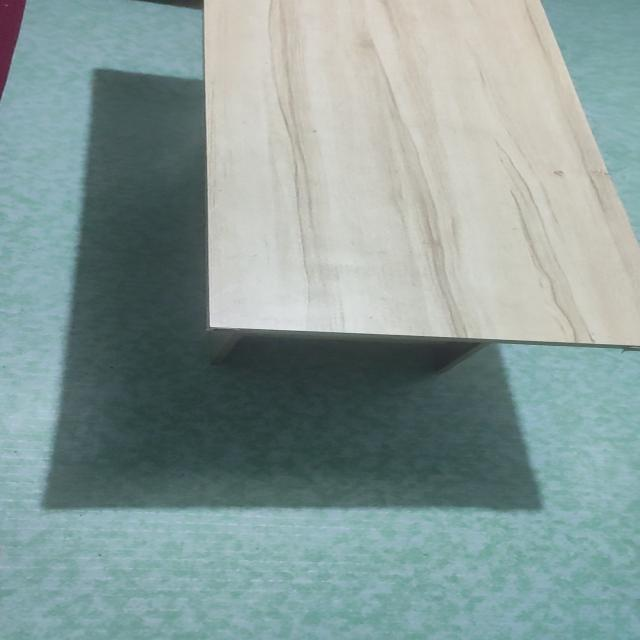table: (198, 0, 640, 388)
